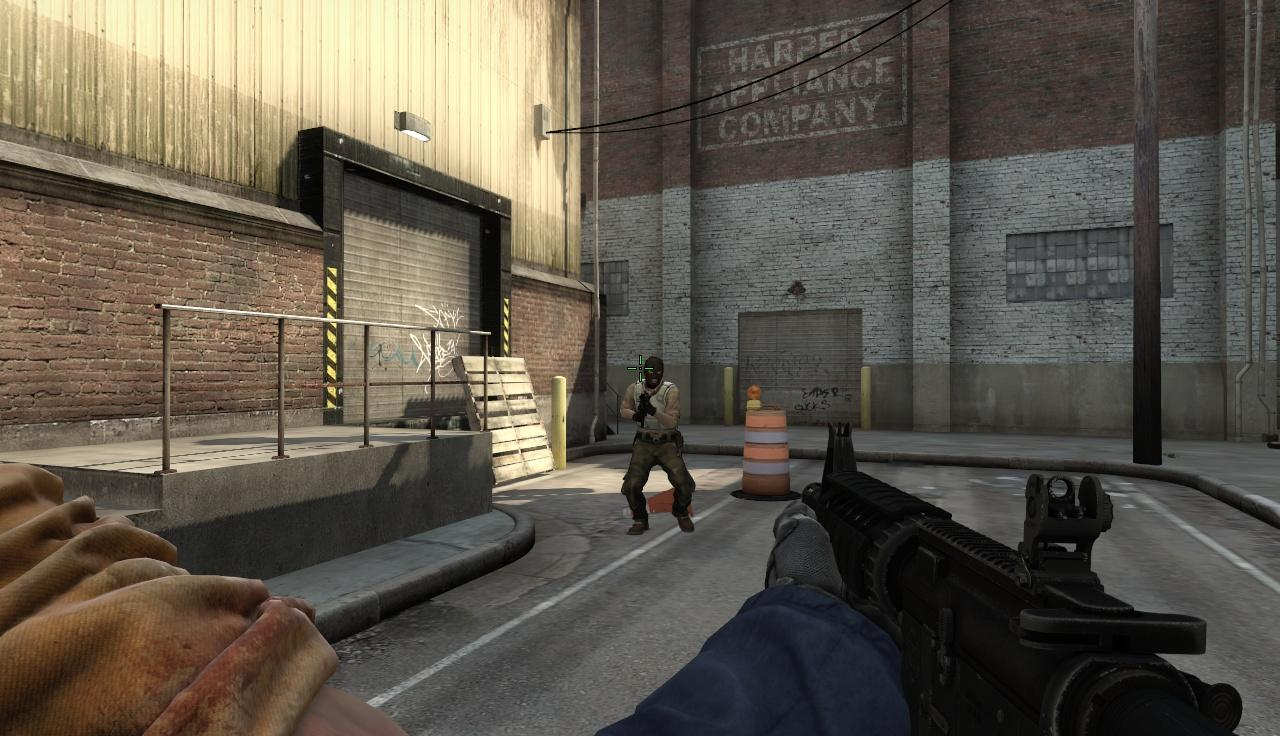rifle: (771, 416, 1267, 731)
tt: (623, 354, 694, 536)
tthead: (642, 356, 664, 387)
